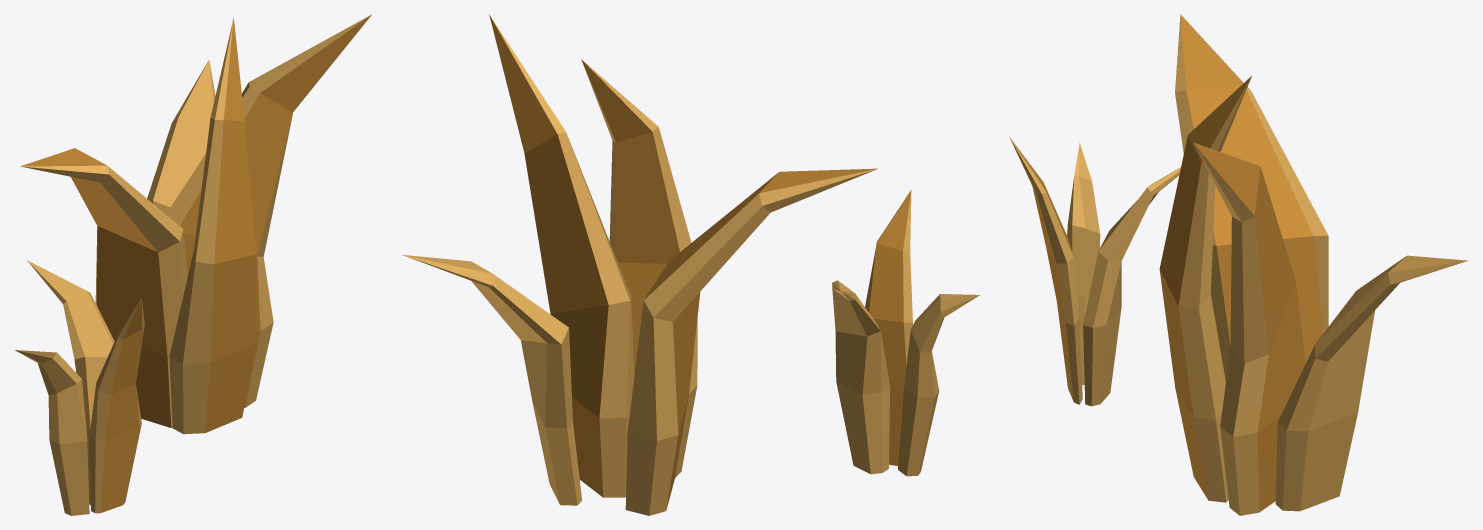
File: grass_1_brown.fbx
3 renders of one model, left to right at view 1: azimuth 30°, elevation 25°; view 2: azimuth 150°, elevation 25°; view 3: azimuth 270°, elevation 25°, orthographic. The views are drawn at different scales.
Visible parts, largest first — view 1: grass_1_brown; view 2: grass_1_brown; view 3: grass_1_brown.
Boxes of the visible parts, x1=… form: grass_1_brown: x1=15, y1=14, x2=371, y2=515; grass_1_brown: x1=402, y1=14, x2=979, y2=515; grass_1_brown: x1=1009, y1=14, x2=1467, y2=515.
Bounding box in the file's own units: 138 × 124 × 120.
